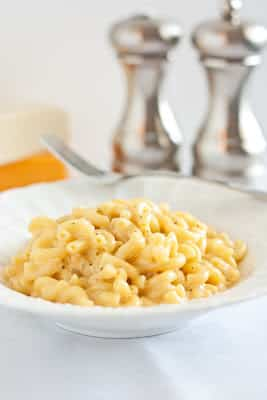macncheese: (1, 200, 249, 306)
